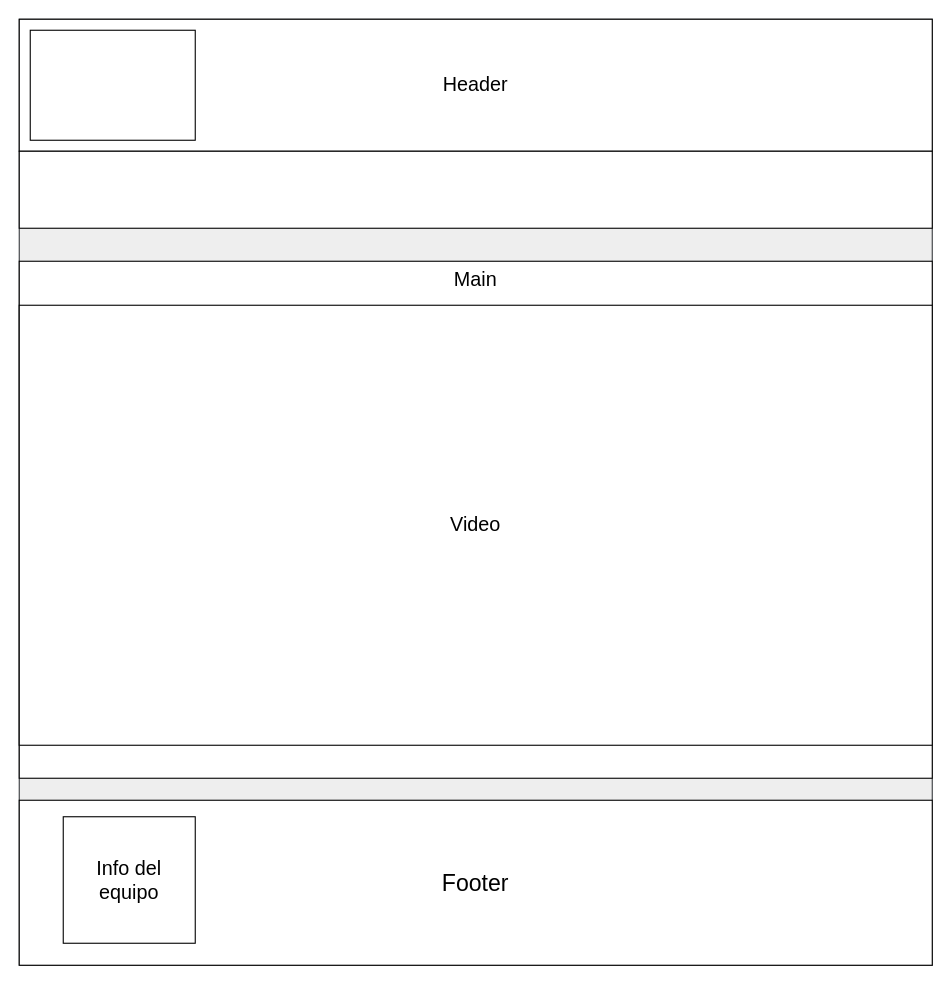
Some shapes in this 952 by 985 pixel diagram are drawn without their labels. Each missing label, with the centre of its shape:
"Logo" goes at point 112,84.
"Nav" goes at point 475,189.
